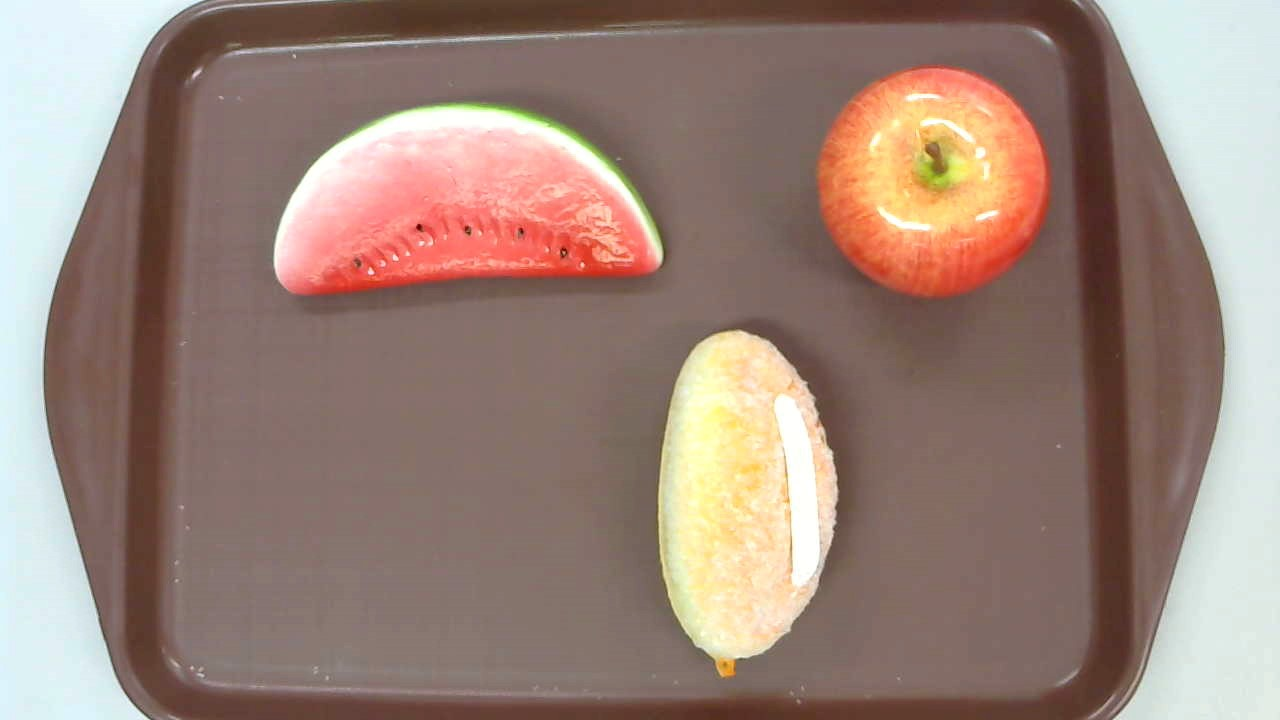coconut: (658, 328, 839, 682)
red apple: (816, 66, 1052, 299)
water melon: (272, 103, 666, 299)
